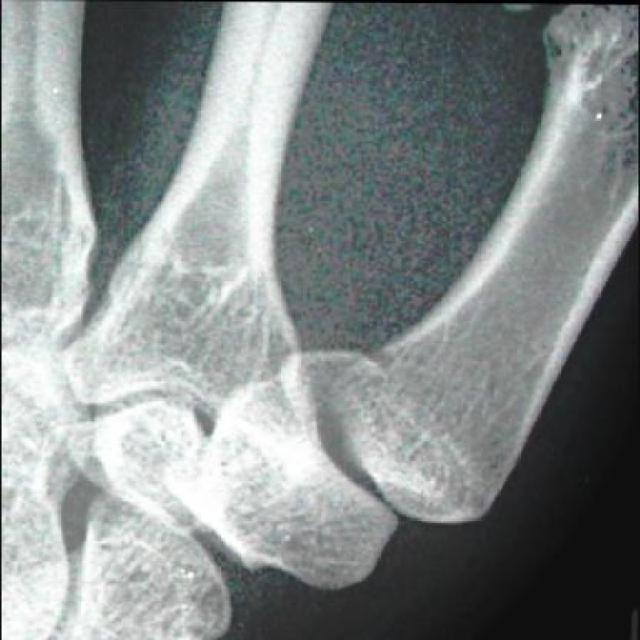Fracture: (305, 324, 433, 468)
